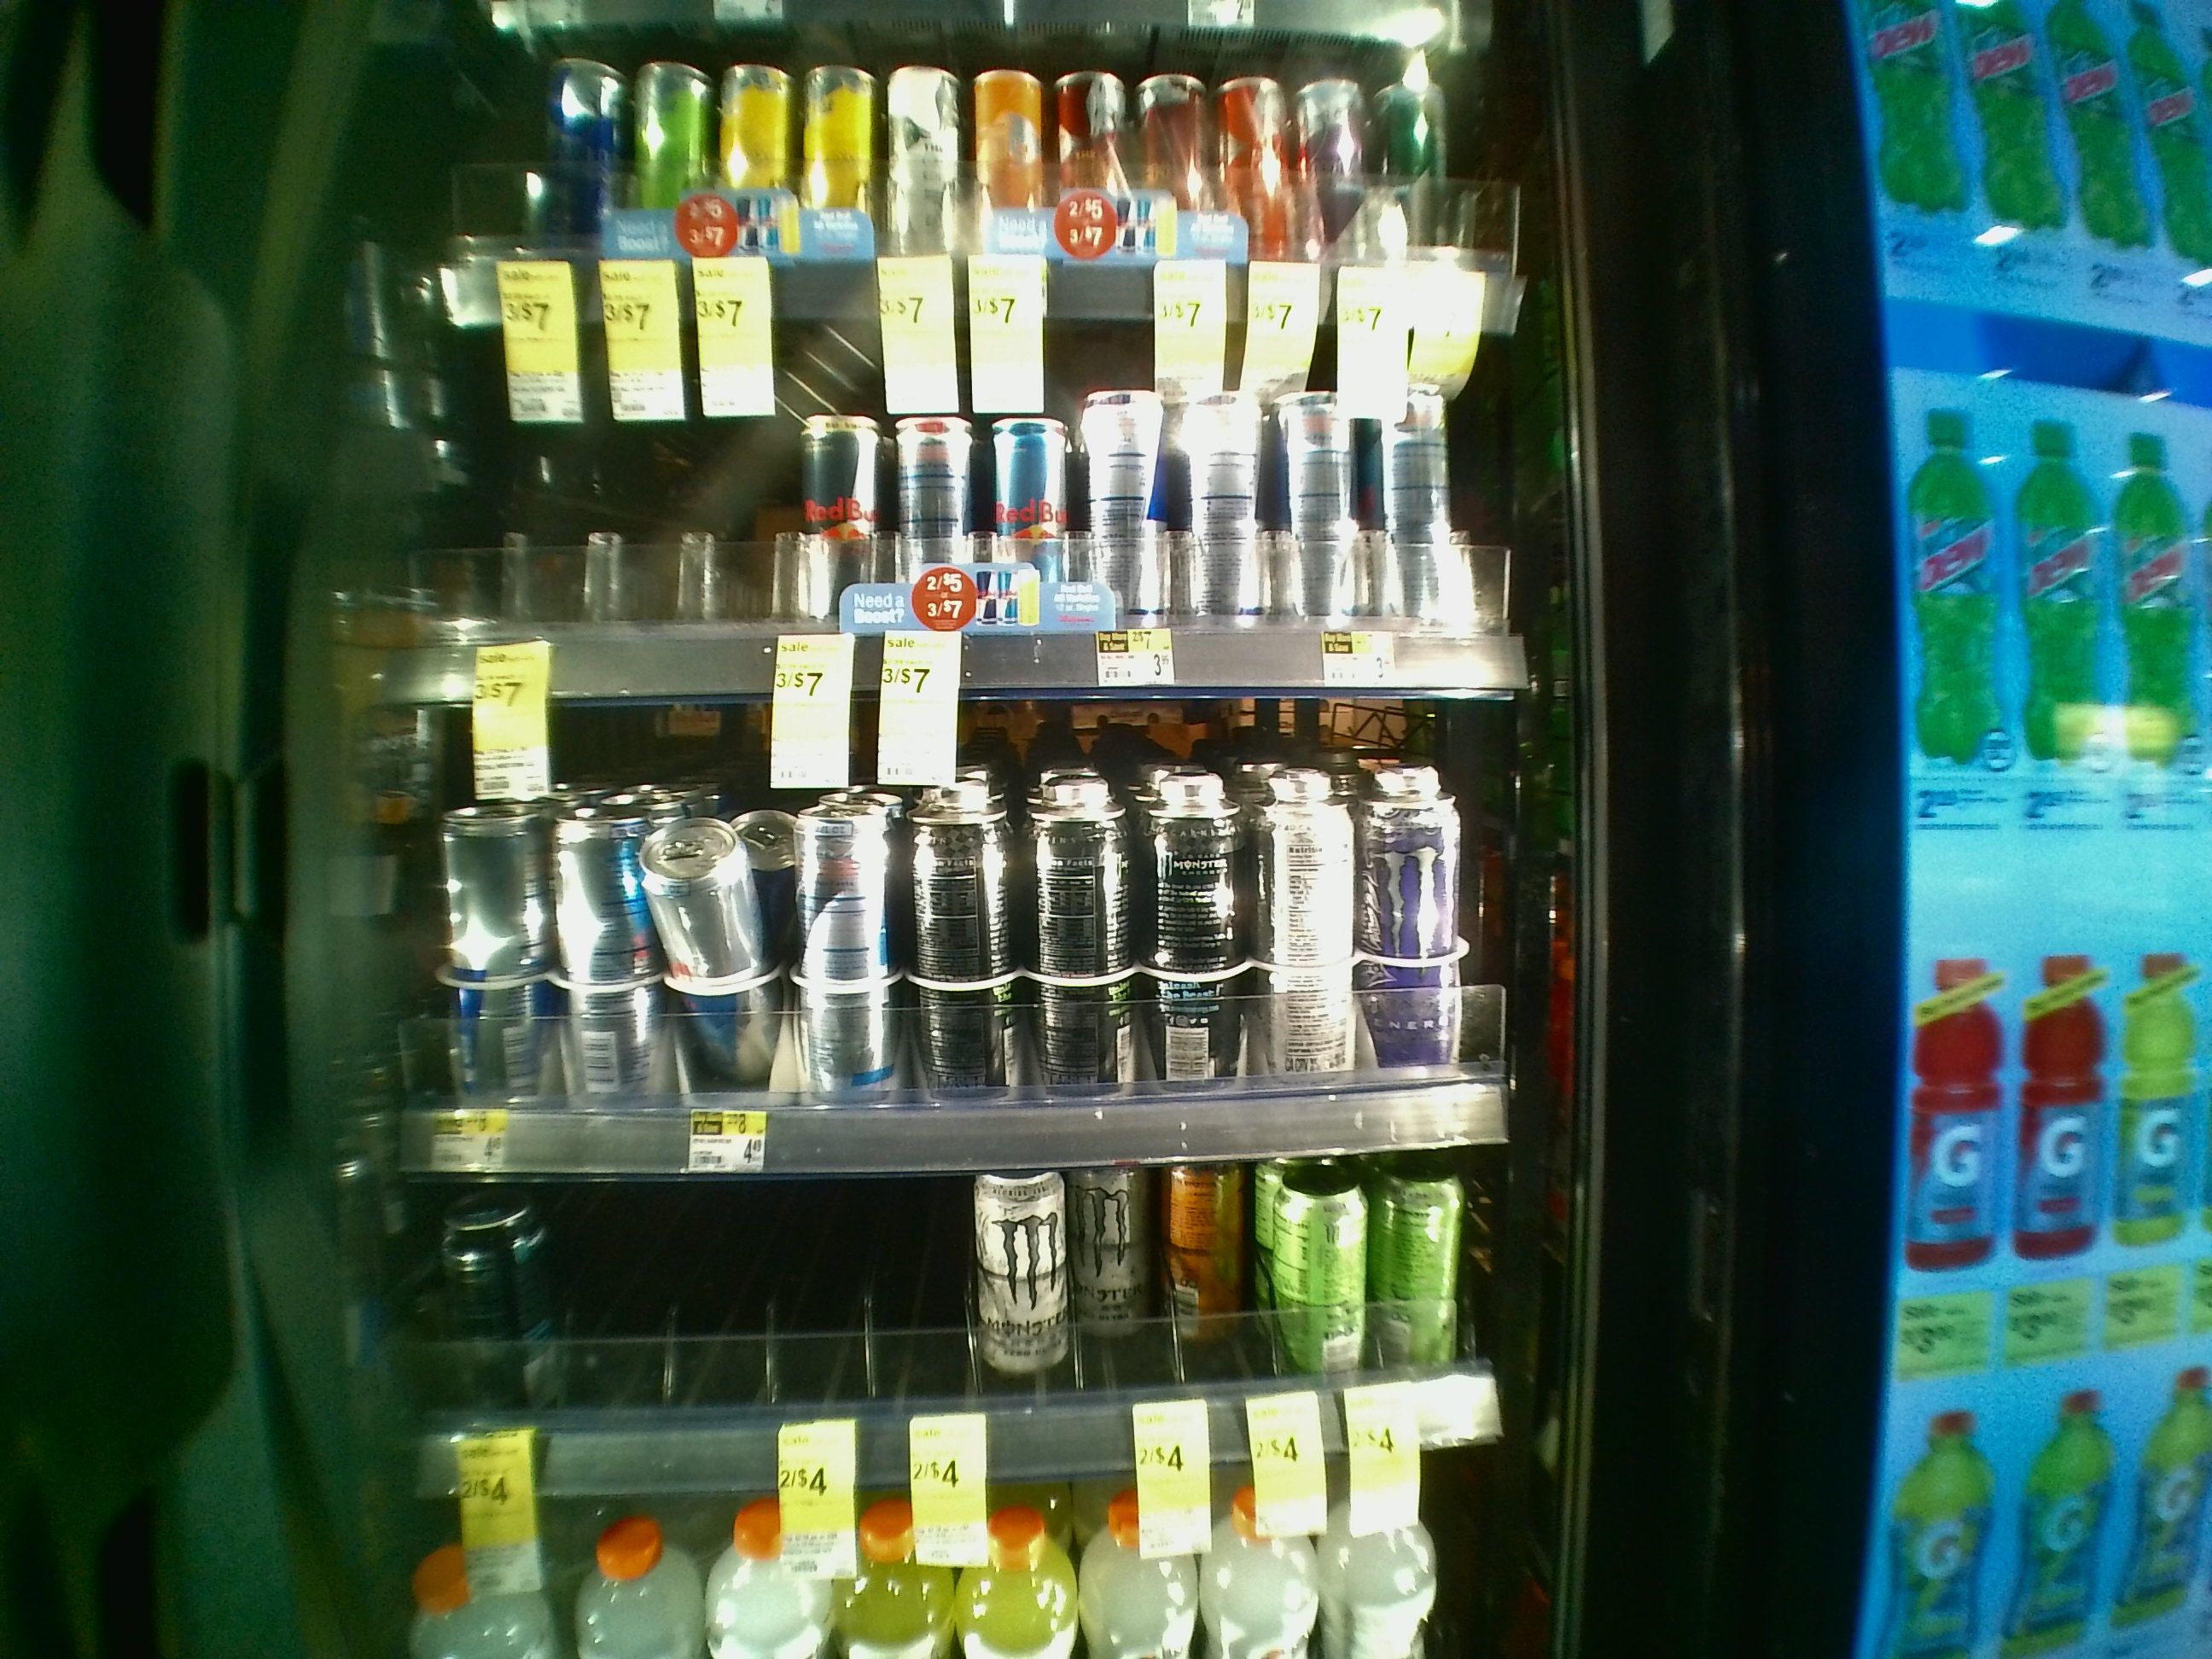shelf: (385, 702, 1597, 1166), (387, 317, 1585, 701)
